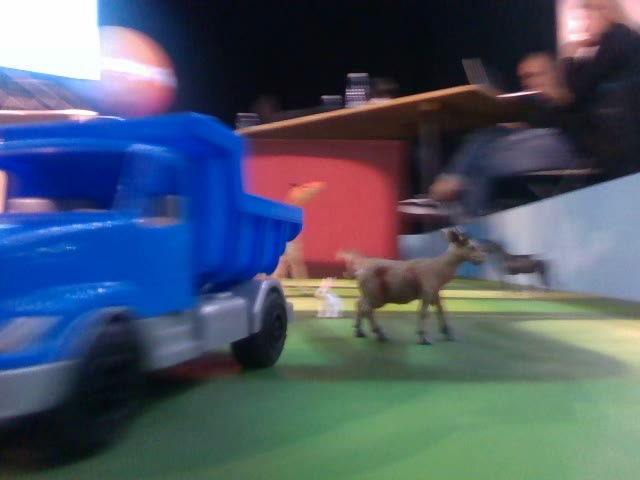toy: (346, 223, 486, 347)
